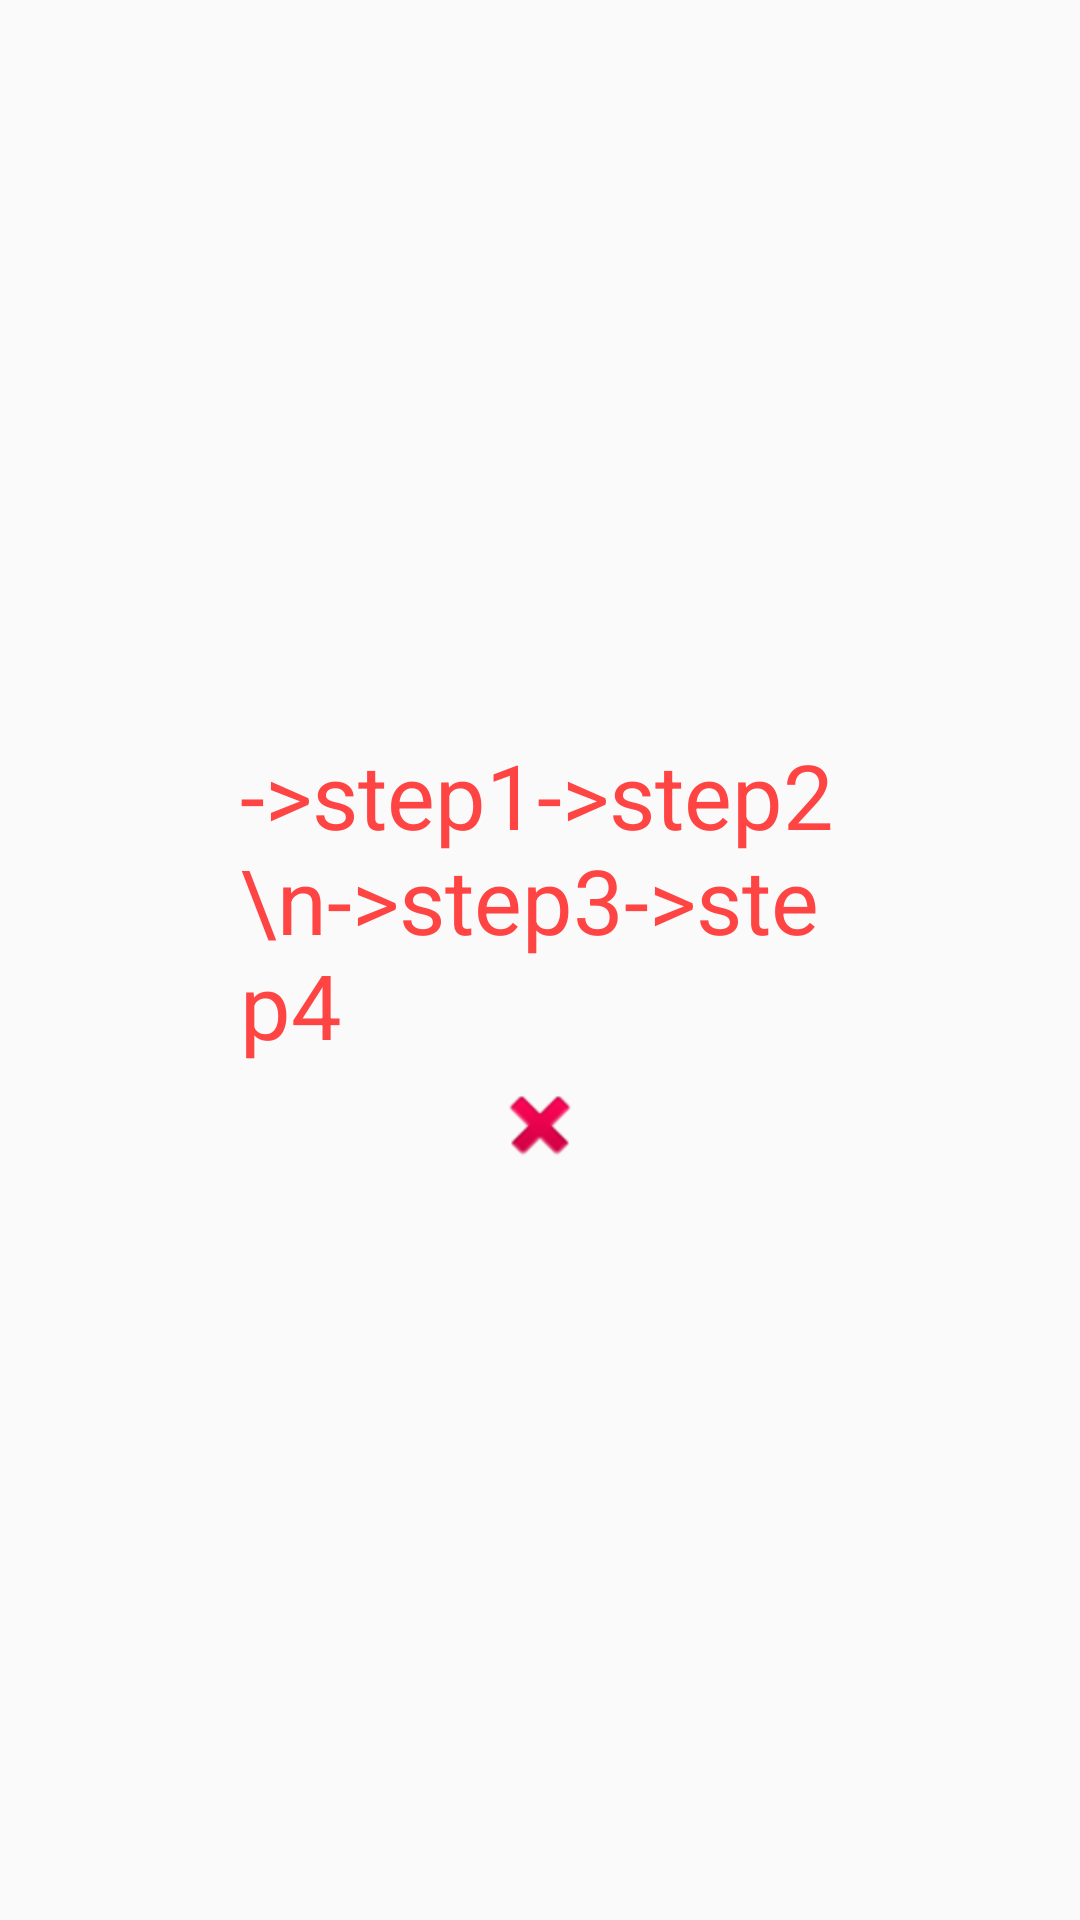

Where icons sit on this 1080 × 1920 app screen, as (x1, y1, x2, y2):
delete: (509, 1096, 571, 1155)
